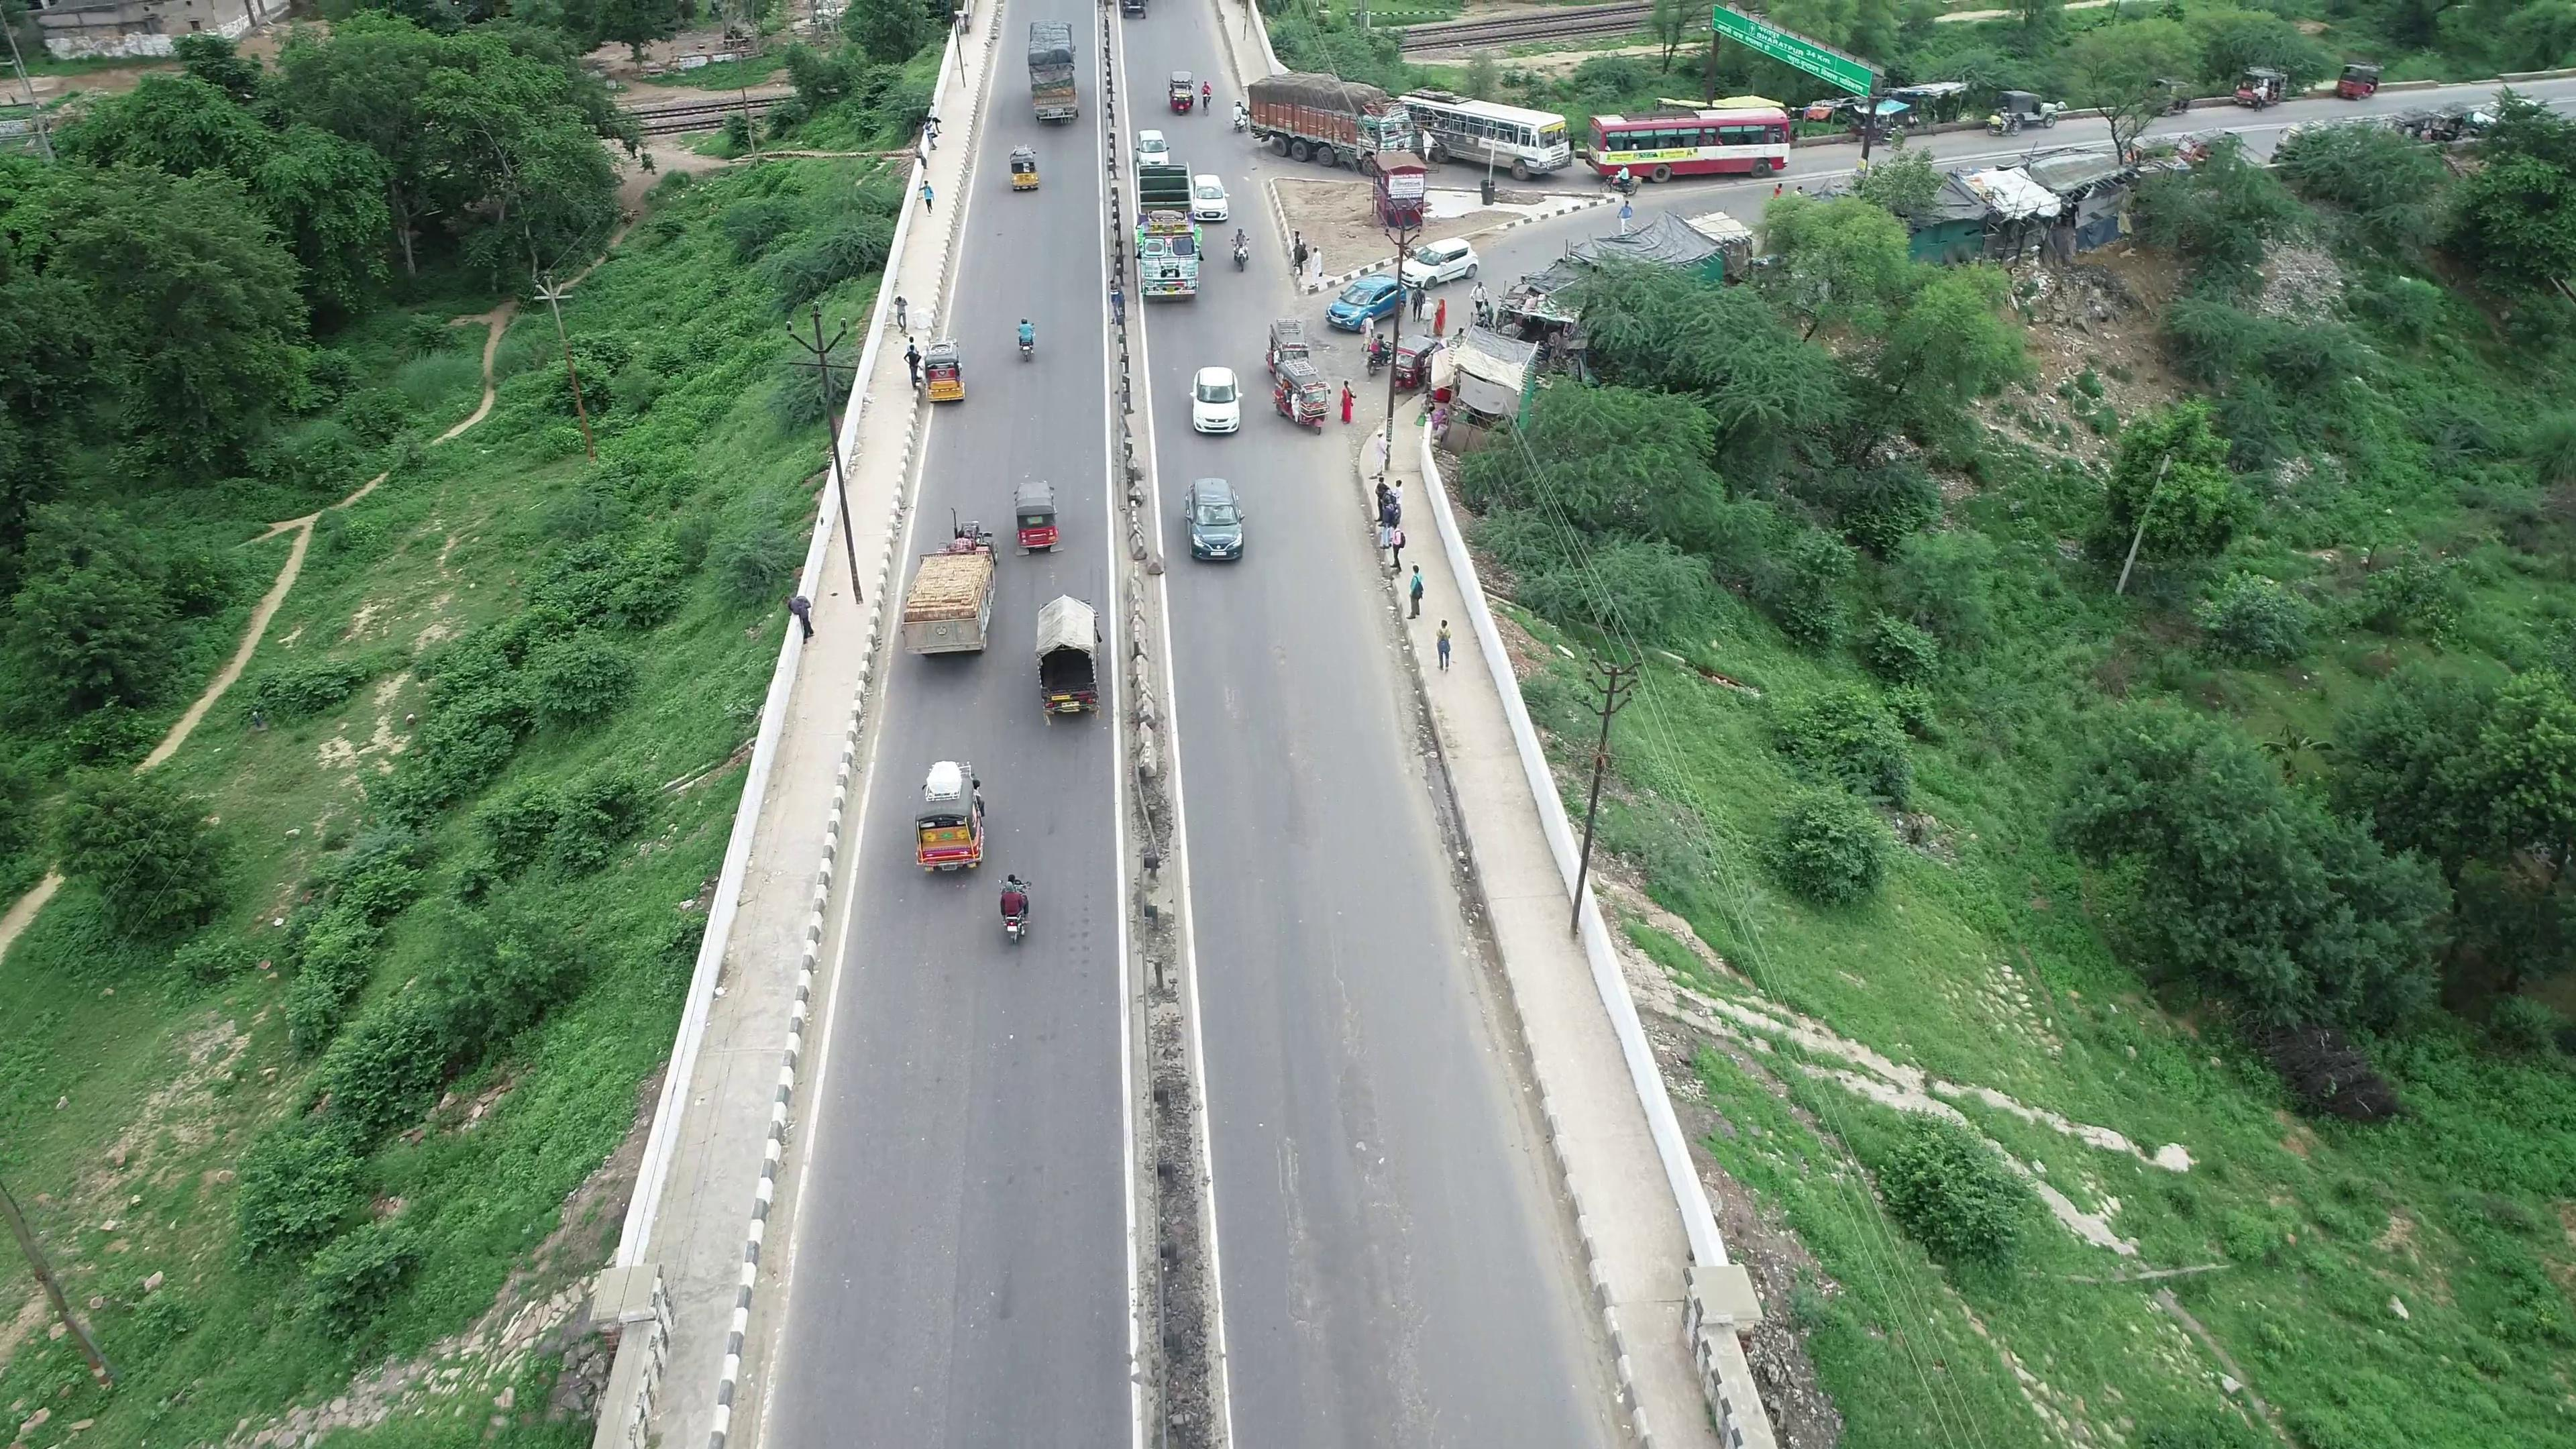Ravelling: (1322, 947, 1422, 1412), (1267, 1116, 1329, 1341)
